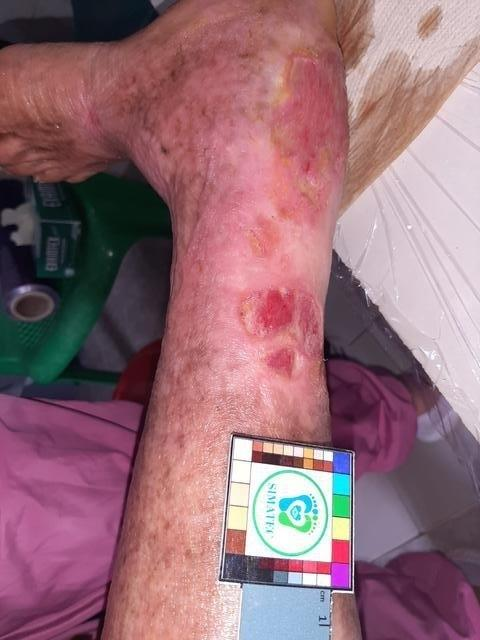wound: (269, 48, 349, 207), (239, 289, 328, 395), (265, 347, 298, 381)
